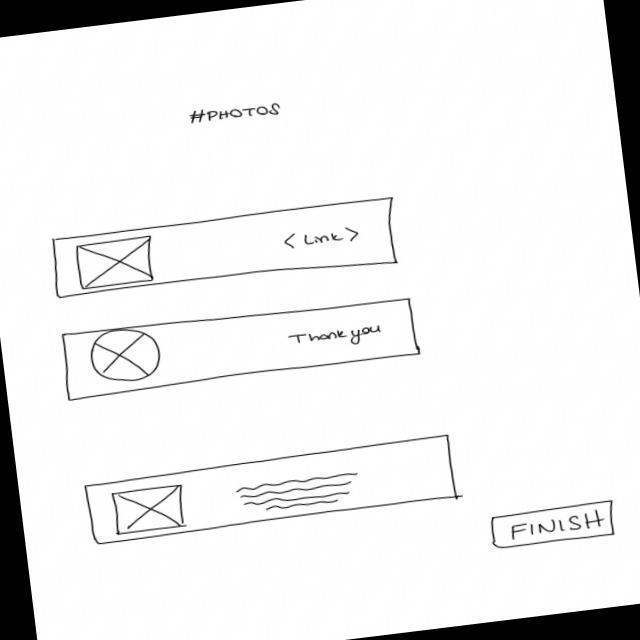button: (487, 499, 619, 554)
container: (82, 434, 463, 547), (57, 289, 426, 403), (48, 194, 408, 309)
image: (87, 325, 167, 388), (74, 235, 157, 292), (108, 483, 188, 537)
label: (285, 322, 385, 355), (186, 98, 285, 131), (282, 224, 364, 253)
textbox: (235, 470, 364, 516)
